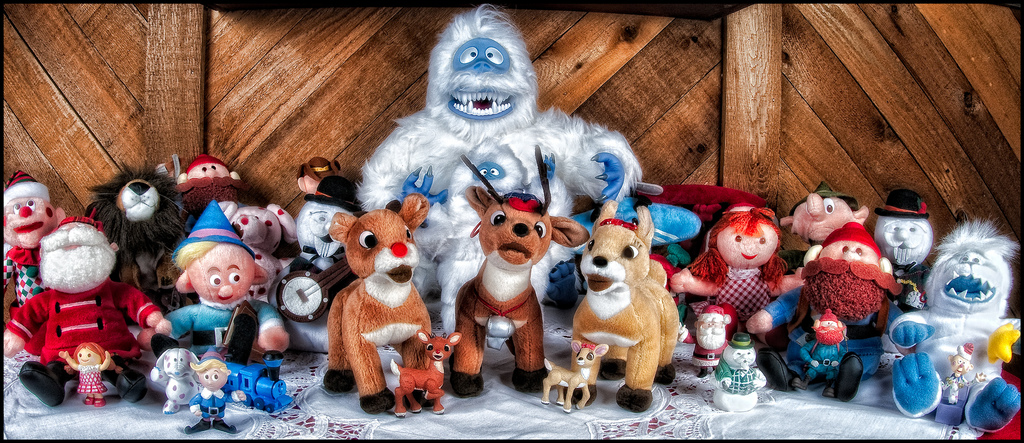Animal: (0, 7, 1023, 442)
